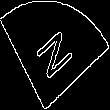N_SW: (31, 24, 79, 86)
